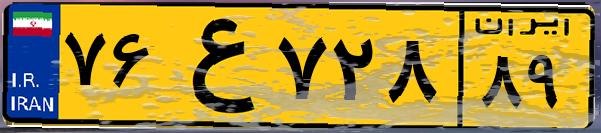2: (330, 28, 385, 110)
6: (110, 28, 158, 98)
7: (270, 28, 330, 110), (57, 26, 110, 100)
8: (385, 28, 445, 110), (475, 38, 525, 113)
9: (525, 38, 570, 115)
ع: (158, 12, 270, 120)
